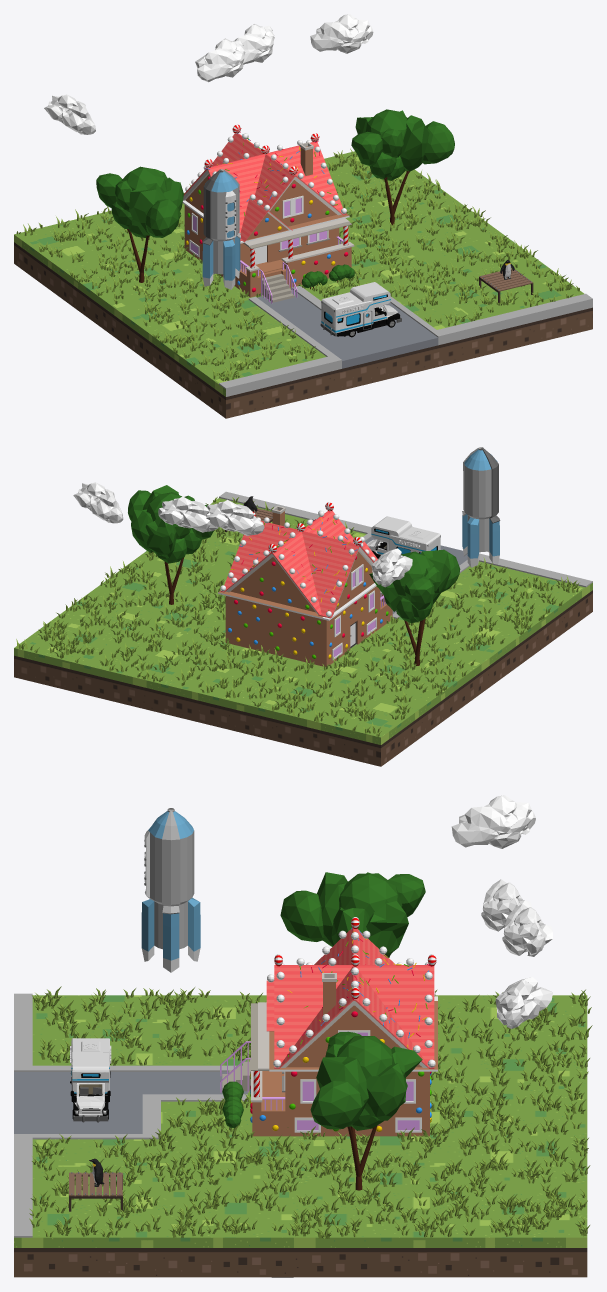
3 renders of one model, top to bottom at view 1: azimuth 30°, elevation 25°; view 2: azimuth 150°, elevation 25°; view 3: azimuth 270°, elevation 25°, orthographic. The views are drawn at different scales.
Visible parts, largest first — view 1: Cube.006, Circle.012_Grass_0.192, Cube.1203, Cube.007, tree, tree.001, OBJRANDOM_ROCKETSHIP, VEHICLES_CAMPER, Cube.009; view 2: Cube.006, Cube.1203, Circle.012_Grass_0.192, Cube.007, OBJRANDOM_ROCKETSHIP, tree.001, tree, VEHICLES_CAMPER; view 3: Cube.006, Circle.012_Grass_0.192, Cube.1203, tree, Cube.007, tree.001, OBJRANDOM_ROCKETSHIP, VEHICLES_CAMPER, Cube.009.
Part boxes in pixels (x1=…): Cube.006: x1=14, y1=151, x2=592, y2=418; Circle.012_Grass_0.192: x1=16, y1=148, x2=579, y2=381; Cube.1203: x1=182, y1=124, x2=354, y2=303; Cube.007: x1=44, y1=14, x2=373, y2=134; tree: x1=351, y1=109, x2=454, y2=225; tree.001: x1=96, y1=166, x2=183, y2=282; OBJRANDOM_ROCKETSHIP: x1=202, y1=169, x2=240, y2=289; VEHICLES_CAMPER: x1=320, y1=282, x2=401, y2=337; Cube.009: x1=479, y1=268, x2=533, y2=302; Cube.006: x1=14, y1=491, x2=592, y2=766; Cube.1203: x1=218, y1=502, x2=392, y2=666; Circle.012_Grass_0.192: x1=16, y1=497, x2=579, y2=736; Cube.007: x1=73, y1=482, x2=412, y2=587; OBJRANDOM_ROCKETSHIP: x1=462, y1=447, x2=500, y2=567; tree.001: x1=369, y1=549, x2=460, y2=665; tree: x1=128, y1=485, x2=213, y2=604; VEHICLES_CAMPER: x1=367, y1=516, x2=440, y2=558; Cube.006: x1=14, y1=993, x2=587, y2=1277; Circle.012_Grass_0.192: x1=29, y1=986, x2=592, y2=1238; Cube.1203: x1=220, y1=917, x2=437, y2=1136; tree: x1=310, y1=1031, x2=422, y2=1190; Cube.007: x1=451, y1=795, x2=552, y2=1028; tree.001: x1=280, y1=872, x2=425, y2=957; OBJRANDOM_ROCKETSHIP: x1=141, y1=808, x2=200, y2=972; VEHICLES_CAMPER: x1=70, y1=1038, x2=111, y2=1122; Cube.009: x1=69, y1=1172, x2=122, y2=1211.
Bounding box in the file's own units: 4071 × 2184 × 4040.
Materials: 43 (4 with a texture image).
